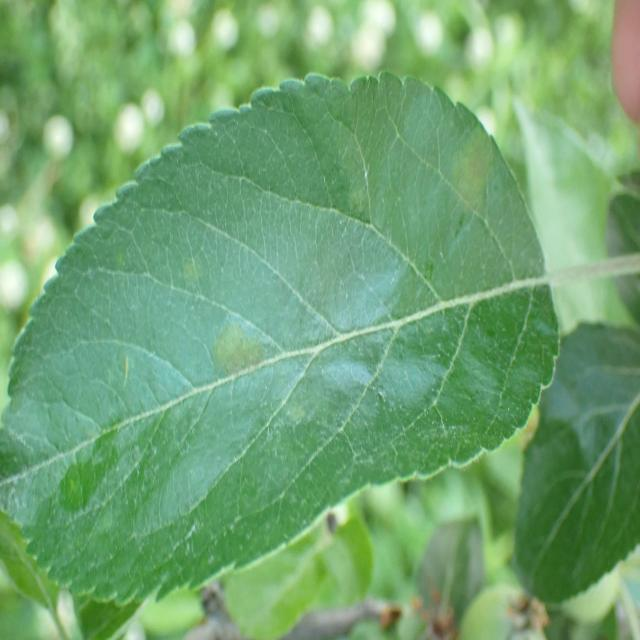scab: (44, 122, 523, 452)
